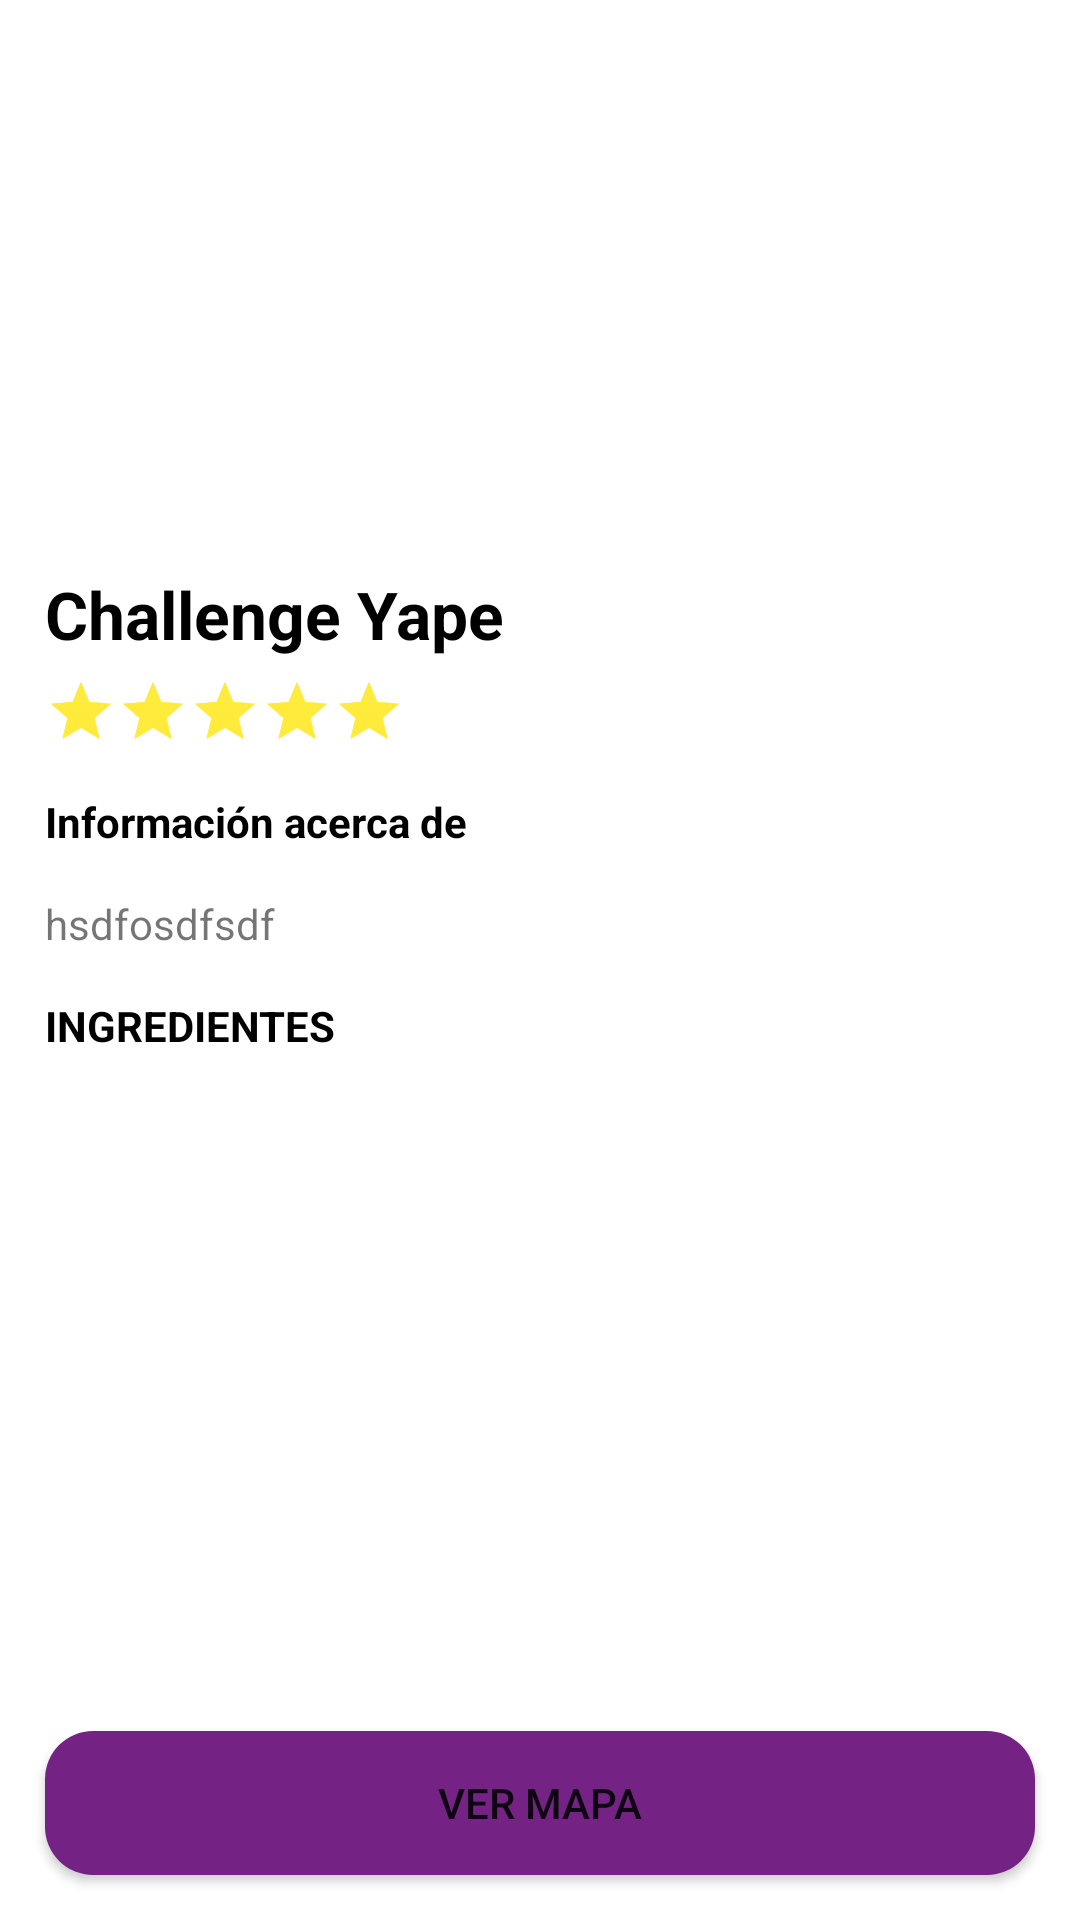

Point at icon controls on the screen. Image size 1080 x 1920, points as [x,y].
rating star: [81,710], [153,710], [225,710], [297,710], [369,710]
